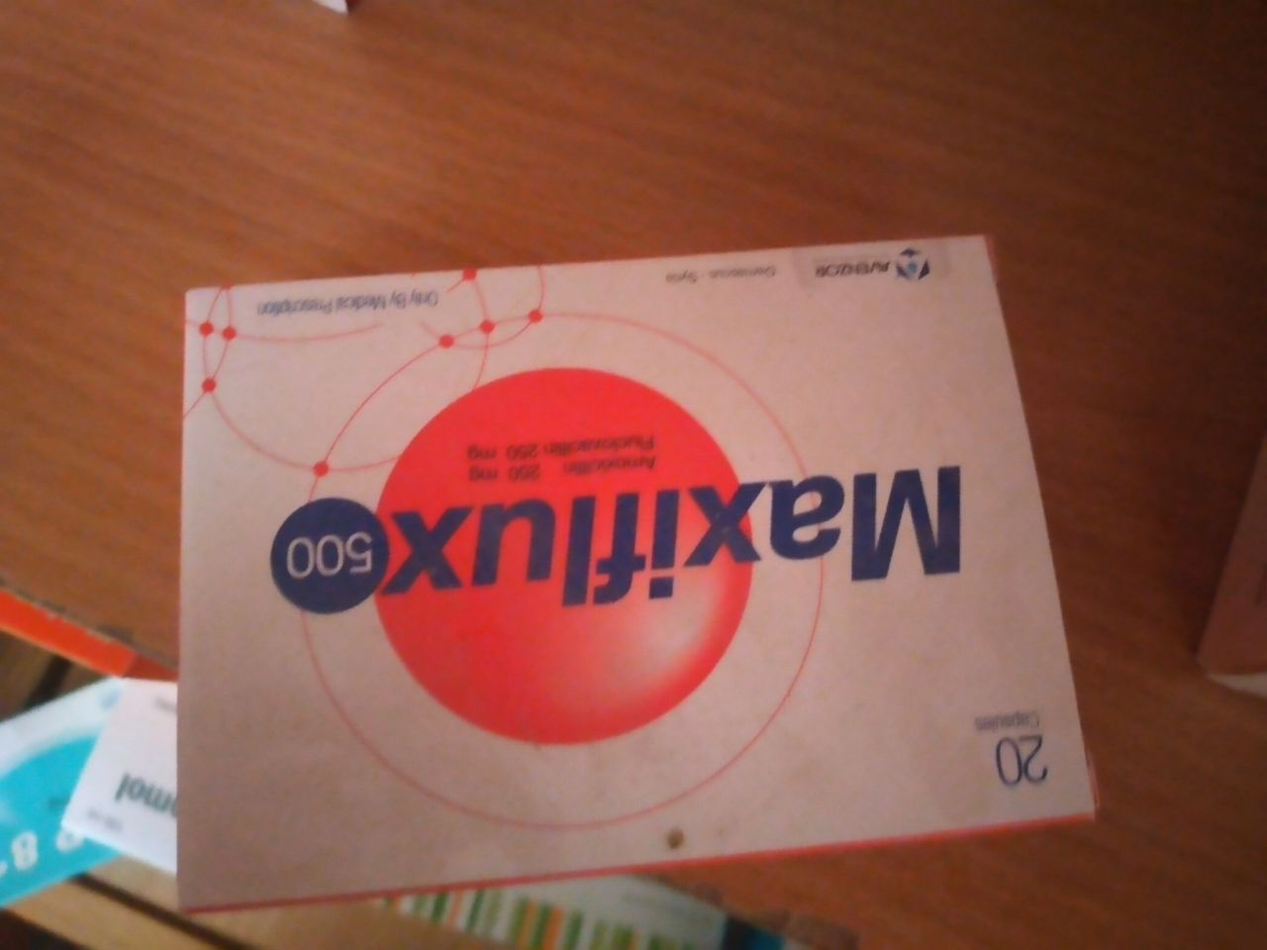Medicine: (153, 225, 1121, 893)
